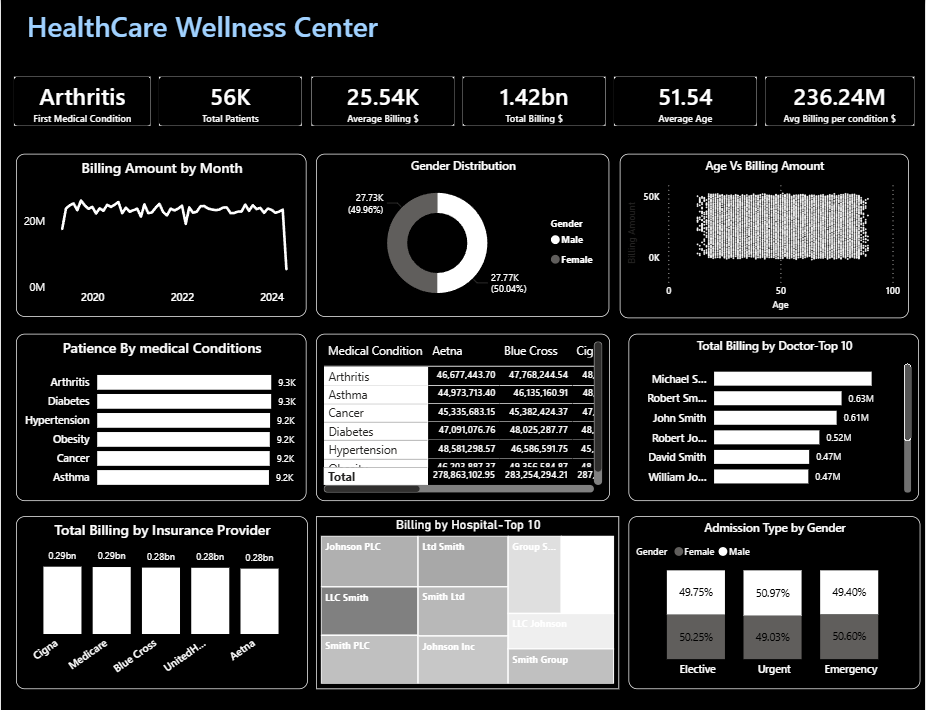

Layout of this report page (visuals, bound fields, positions):
{"tool":"powerbi","page":{"name":"Page 1","canvas":[1056,864],"ordinal":0},"visuals":[{"type":"textbox","box":[10.1,14.5,440.1,70.9],"z":0},{"type":"cardVisual","fields":{"Data":["Min(healthcare.Medical Condition)"]},"box":[10,94,166,66],"z":1000},{"type":"cardVisual","fields":{"Data":["healthcare.Total Patients"]},"box":[176.2,94,173,66],"z":2000},{"type":"cardVisual","fields":{"Data":["healthcare.Average Billing $"]},"box":[349.4,94,173,66],"z":3000},{"type":"cardVisual","fields":{"Data":["healthcare.Total Billing $"]},"box":[522.6,94,173,66],"z":4000},{"type":"cardVisual","fields":{"Data":["healthcare.Average Age"]},"box":[695.8,94,173,66],"z":5000},{"type":"cardVisual","fields":{"Data":["healthcare.Avg Biiling per condition $"]},"box":[869,94,180,66],"z":6000},{"type":"lineChart","title":"Billing Amount by Month","fields":{"Y":["Sum(healthcare.Billing Amount)"],"Category":["healthcare.Date of Admission.Variation.Date Hierarchy.Year","healthcare.Date of Admission.Variation.Date Hierarchy.Month"]},"box":[16.7,186.7,332.2,186.7],"z":7000},{"type":"clusteredBarChart","title":"Patience By medical Conditions","fields":{"Category":["healthcare.Medical Condition"],"Y":["CountNonNull(healthcare.Name)"]},"box":[16.7,393.3,332.2,191.1],"z":8000},{"type":"clusteredColumnChart","title":"Total Billing by Insurance Provider","fields":{"Category":["healthcare.Insurance Provider"],"Y":["Sum(healthcare.Billing Amount)"]},"box":[16.7,601.1,333.3,197.8],"z":9000},{"type":"clusteredBarChart","title":"Total Billing by Doctor-Top 10","fields":{"Category":["healthcare.Doctor"],"Y":["Sum(healthcare.Billing Amount)"]},"box":[716.7,393.3,332.2,191.1],"z":10000},{"type":"hundredPercentStackedColumnChart","title":"Admission Type by Gender","fields":{"Category":["healthcare.Admission Type"],"Y":["CountNonNull(healthcare.Name)"],"Series":["healthcare.Gender"]},"box":[716.7,601.1,333.3,197.8],"z":11000},{"type":"donutChart","title":"Gender Distribution","fields":{"Category":["healthcare.Gender"],"Y":["CountNonNull(healthcare.Name)"]},"box":[360,186.7,335.6,186.7],"z":12000},{"type":"scatterChart","title":"Age Vs Billing Amount","fields":{"X":["healthcare.Age"],"Y":["healthcare.Billing Amount"]},"box":[706.7,186.7,330,187.8],"z":13000},{"type":"treemap","title":"Billing by Hospital-Top 10","fields":{"Group":["healthcare.Hospital"],"Values":["Sum(healthcare.Billing Amount)"]},"box":[360,601.1,346.7,197.8],"z":13001},{"type":"pivotTable","fields":{"Rows":["healthcare.Medical Condition"],"Columns":["healthcare.Insurance Provider"],"Values":["Sum(healthcare.Billing Amount)"]},"box":[360,393,336,191],"z":13002}]}

Visuals, with their boxes on the page's 1056x864 design canvas (x1, y1, x2, y2). These are canvas units, not pixel positions in the 926x710 screenshot, which may show the page scaled, cropped or inside an application window:
textbox: [10, 14, 450, 85]
cardVisual - Min(healthcare.Medical Condition): [10, 94, 176, 160]
cardVisual - healthcare.Total Patients: [176, 94, 349, 160]
cardVisual - healthcare.Average Billing $: [349, 94, 522, 160]
cardVisual - healthcare.Total Billing $: [523, 94, 696, 160]
cardVisual - healthcare.Average Age: [696, 94, 869, 160]
cardVisual - healthcare.Avg Biiling per condition $: [869, 94, 1049, 160]
"Billing Amount by Month" lineChart: [17, 187, 349, 373]
"Patience By medical Conditions" clusteredBarChart: [17, 393, 349, 584]
"Total Billing by Insurance Provider" clusteredColumnChart: [17, 601, 350, 799]
"Total Billing by Doctor-Top 10" clusteredBarChart: [717, 393, 1049, 584]
"Admission Type by Gender" hundredPercentStackedColumnChart: [717, 601, 1050, 799]
"Gender Distribution" donutChart: [360, 187, 696, 373]
"Age Vs Billing Amount" scatterChart: [707, 187, 1037, 374]
"Billing by Hospital-Top 10" treemap: [360, 601, 707, 799]
pivotTable - healthcare.Medical Condition x healthcare.Insurance Provider: [360, 393, 696, 584]
